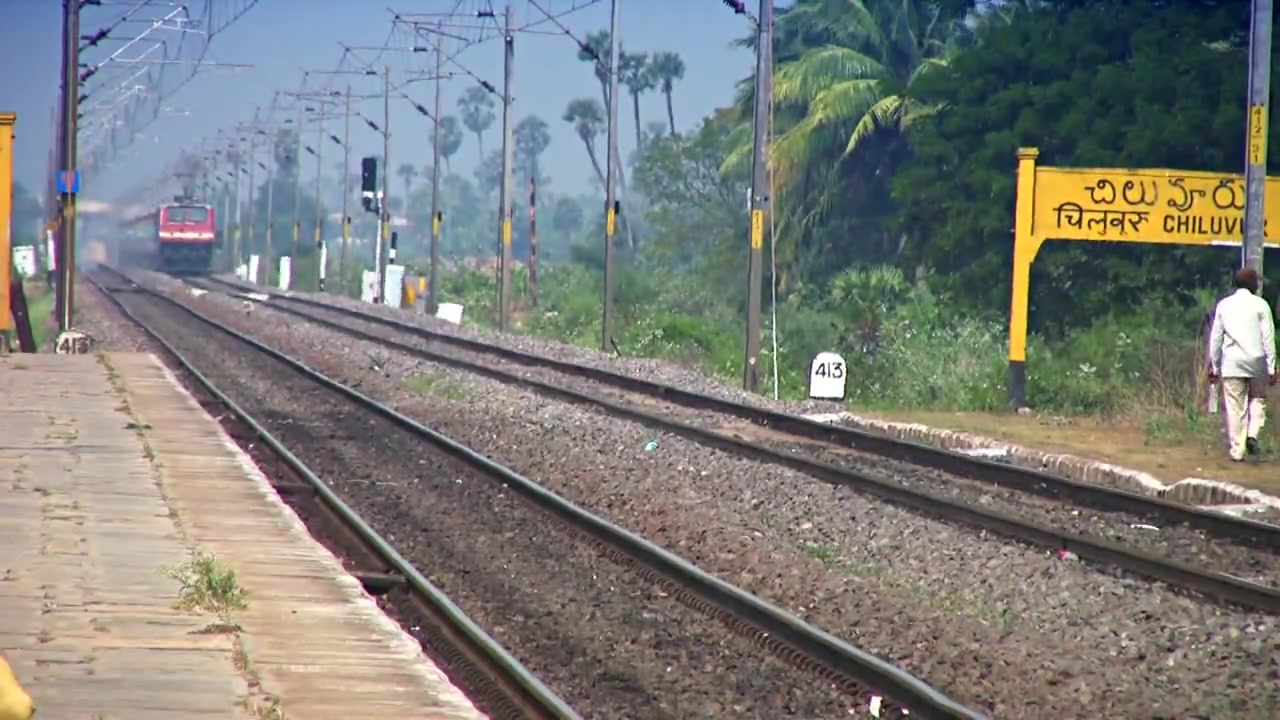train: (110, 201, 221, 277)
